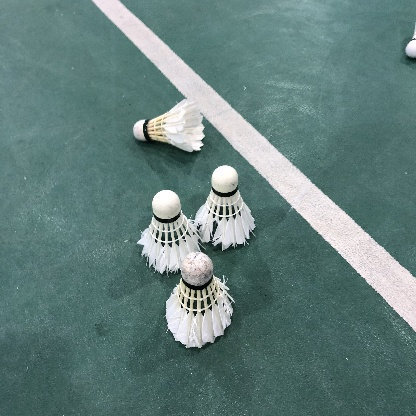ball_single: (165, 252, 233, 348), (137, 190, 203, 273), (194, 165, 256, 251), (133, 98, 205, 152), (406, 22, 416, 59)
